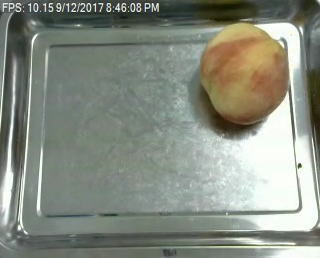Peach: (200, 22, 288, 125)
